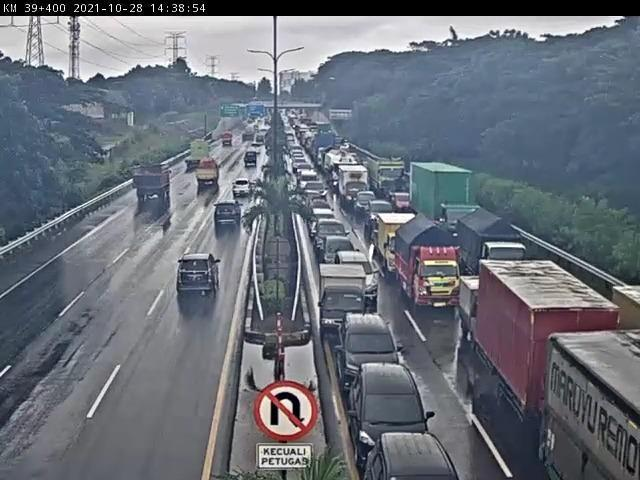car: (350, 366, 437, 465), (336, 315, 400, 399), (365, 434, 462, 480), (337, 253, 382, 303), (176, 253, 223, 298), (321, 237, 362, 278), (313, 220, 351, 259), (214, 200, 244, 231), (368, 200, 396, 232), (311, 208, 336, 238), (302, 190, 325, 222), (298, 170, 320, 197), (231, 179, 256, 200), (357, 193, 378, 218), (247, 146, 263, 161), (254, 136, 266, 147)
truck: (480, 260, 627, 447), (395, 217, 464, 314), (406, 160, 478, 248), (458, 207, 528, 285), (460, 275, 523, 352), (318, 262, 370, 338), (378, 213, 421, 278), (130, 164, 170, 206), (340, 166, 370, 208), (183, 139, 212, 176), (196, 158, 223, 189), (243, 150, 260, 170), (241, 128, 257, 147), (221, 133, 234, 147)
